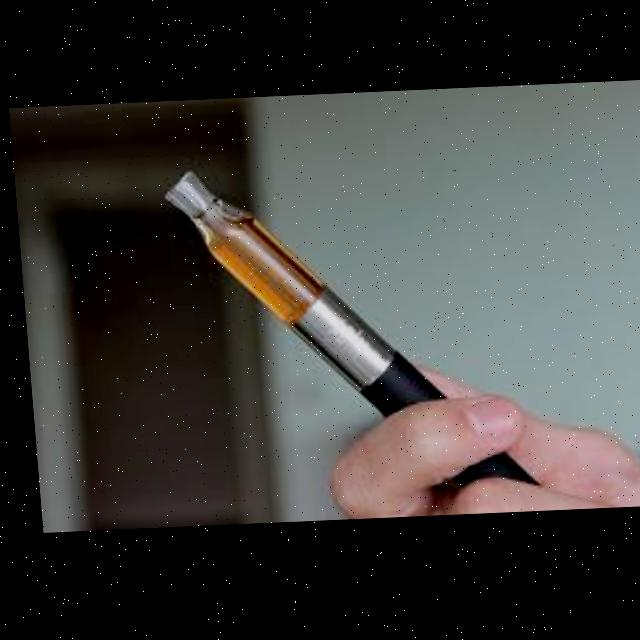vape: (152, 155, 537, 528)
